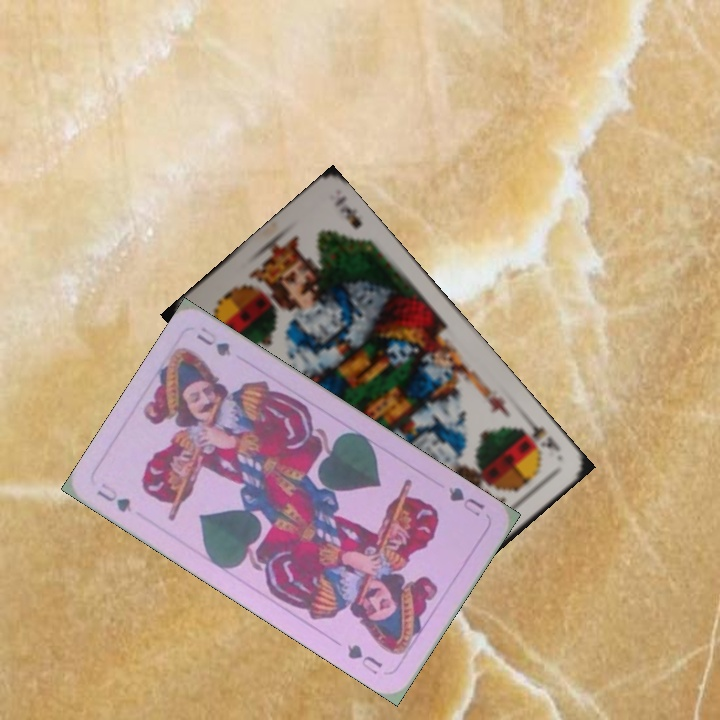GU: (442, 482, 488, 519), (92, 479, 135, 515)
SK: (516, 415, 563, 456)
